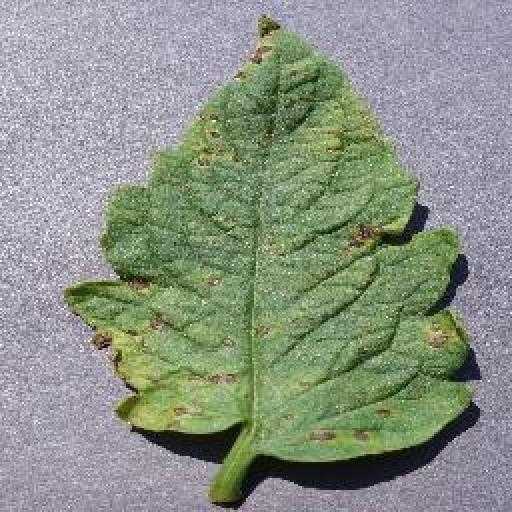disease_tomato: (69, 10, 476, 462)
